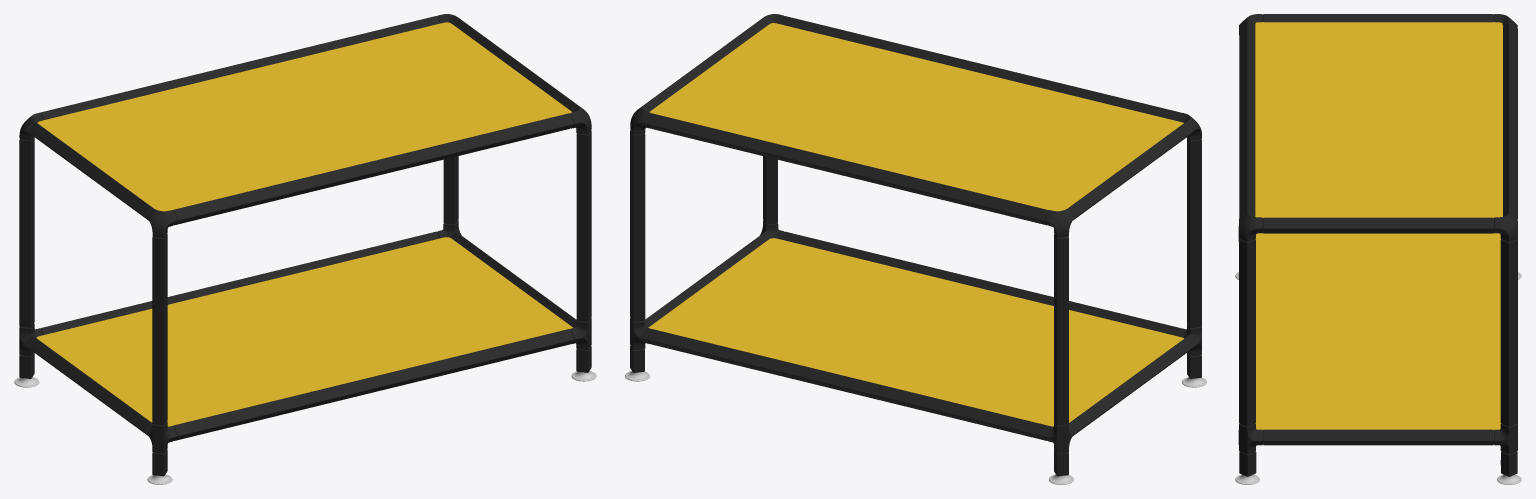
3 renders of one model, left to right at view 1: azimuth 30°, elevation 25°; view 2: azimuth 150°, elevation 25°; view 3: azimuth 270°, elevation 25°, orthographic.
Visible parts, largest first — view 1: 729x374x329; view 2: 729x374x329; view 3: 729x374x329.
Part boxes in pixels (x1,y1,x2,y2): 729x374x329: [14, 14, 596, 484]; 729x374x329: [625, 14, 1206, 484]; 729x374x329: [1235, 14, 1521, 484].
Size of the model in its own units: 0.8189 by 0.4683 by 0.4632.
